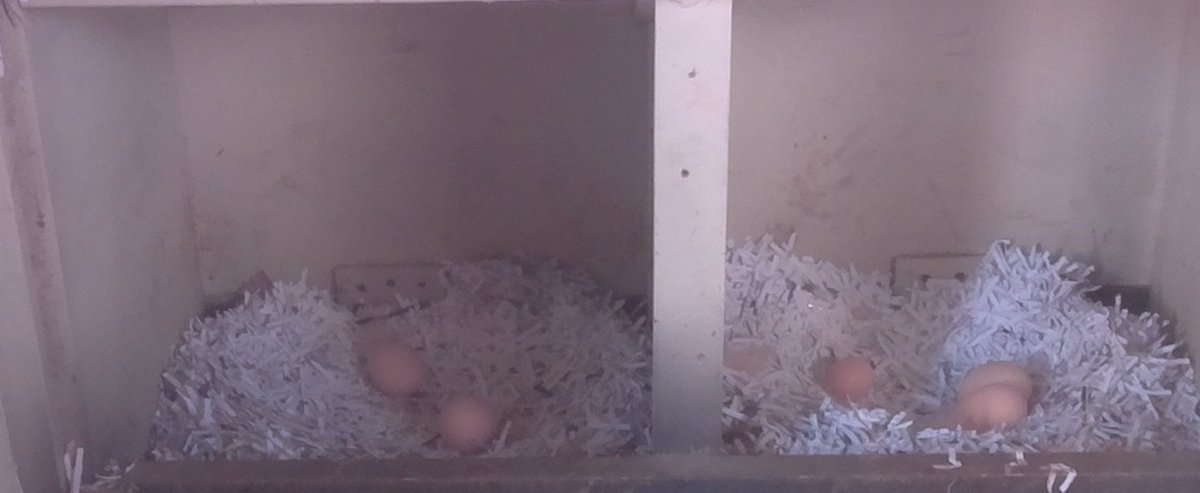egg: (363, 333, 432, 410), (430, 390, 502, 454), (956, 381, 1030, 437), (959, 358, 1039, 400), (823, 352, 877, 408)
